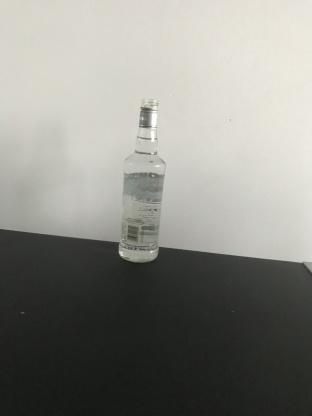nakretka: (137, 96, 160, 129)
